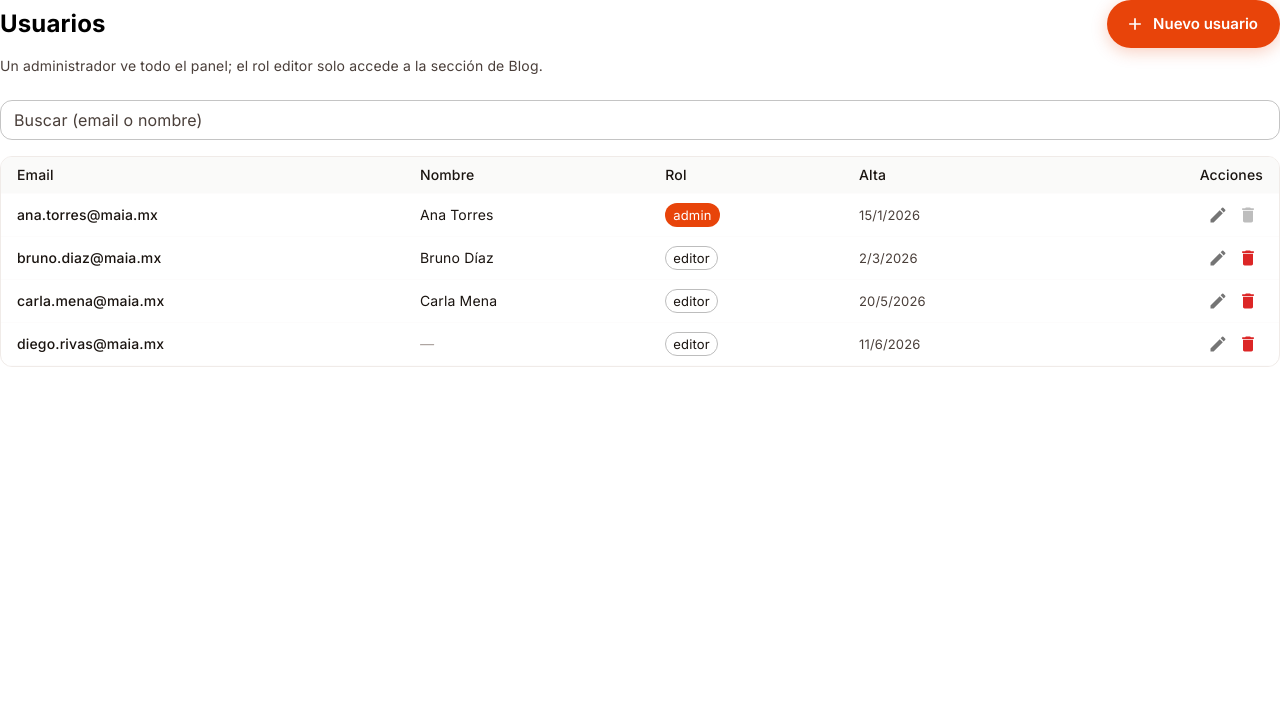
Test: UsersList — alta › envía POST /api/admin/users con email, name, role y password, y recarga el listado
Expected: the text "ana.torres@maia.mx" is shown, [1,194,404,237]
Click the button "Nuevo usuario": (1194,24) [1107,0,1279,48]
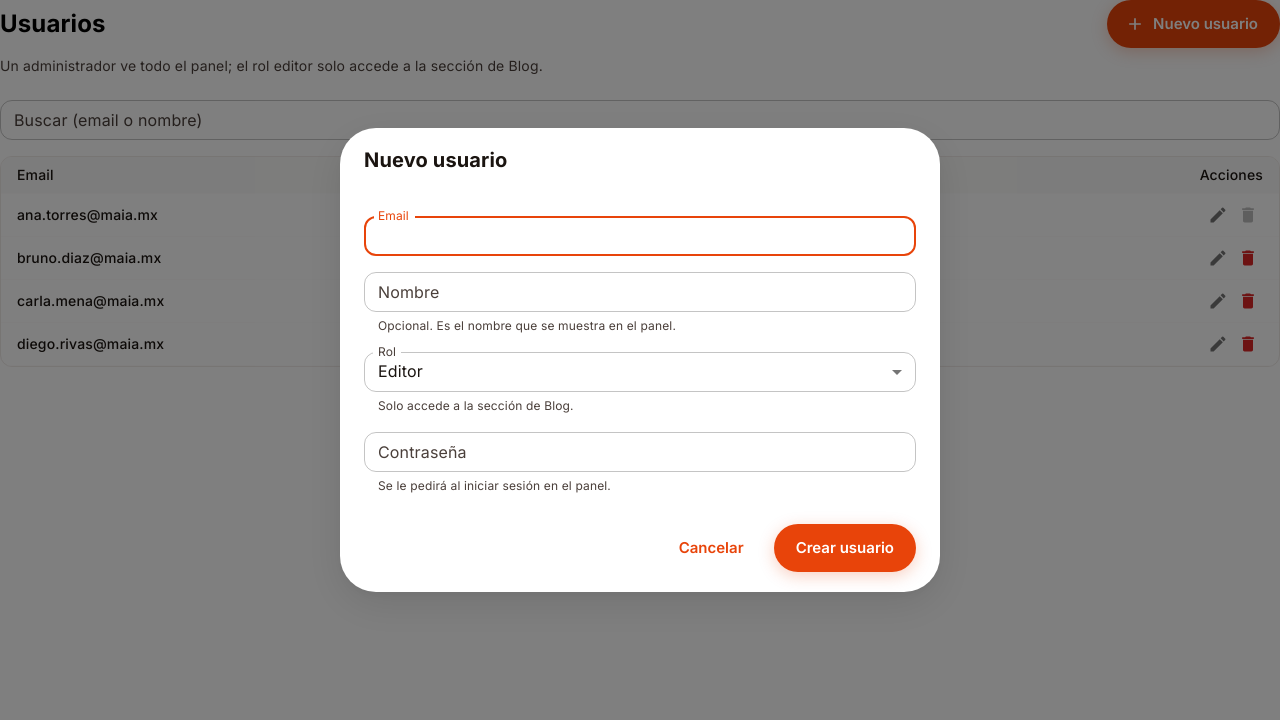
In the field labelled "Email": (640,236) [364,216,916,256], type "elena.paz@maia.mx"
In the field labelled "Nombre": (640,292) [364,272,916,312], type "Elena Paz"
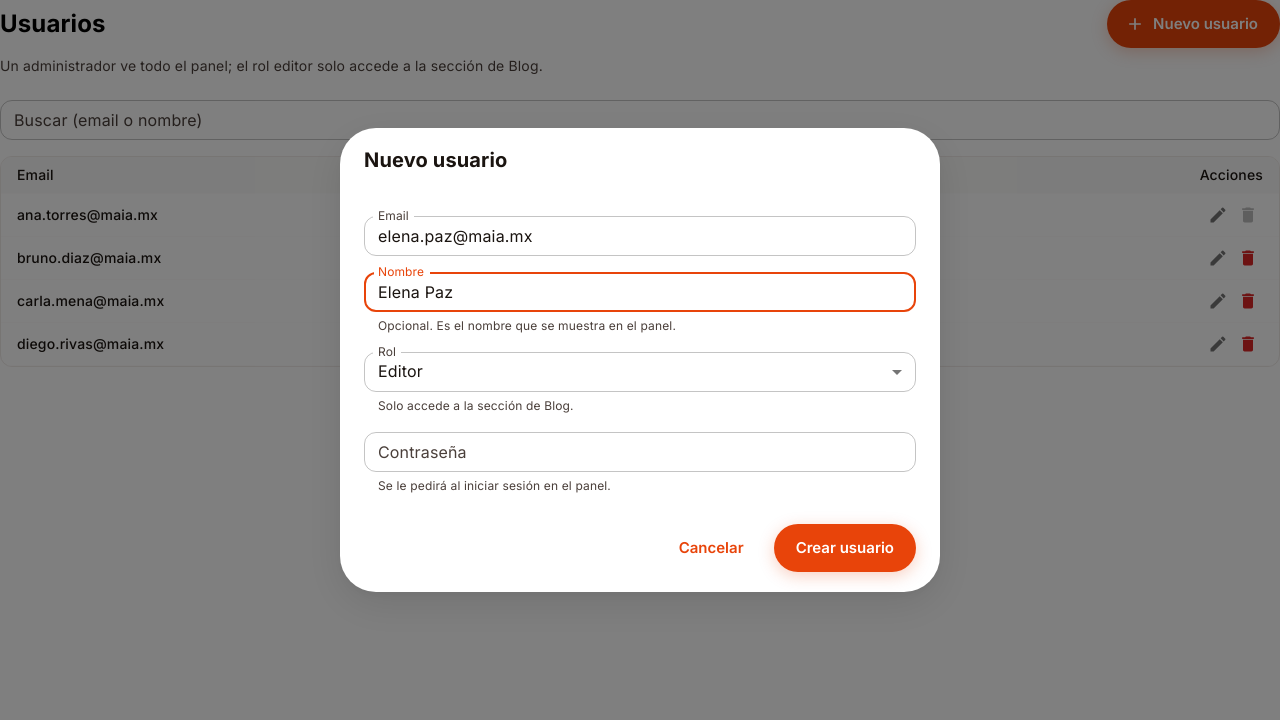
In the password field labelled "Contraseña": (640,452) [364,432,916,472], type "secreto-123"
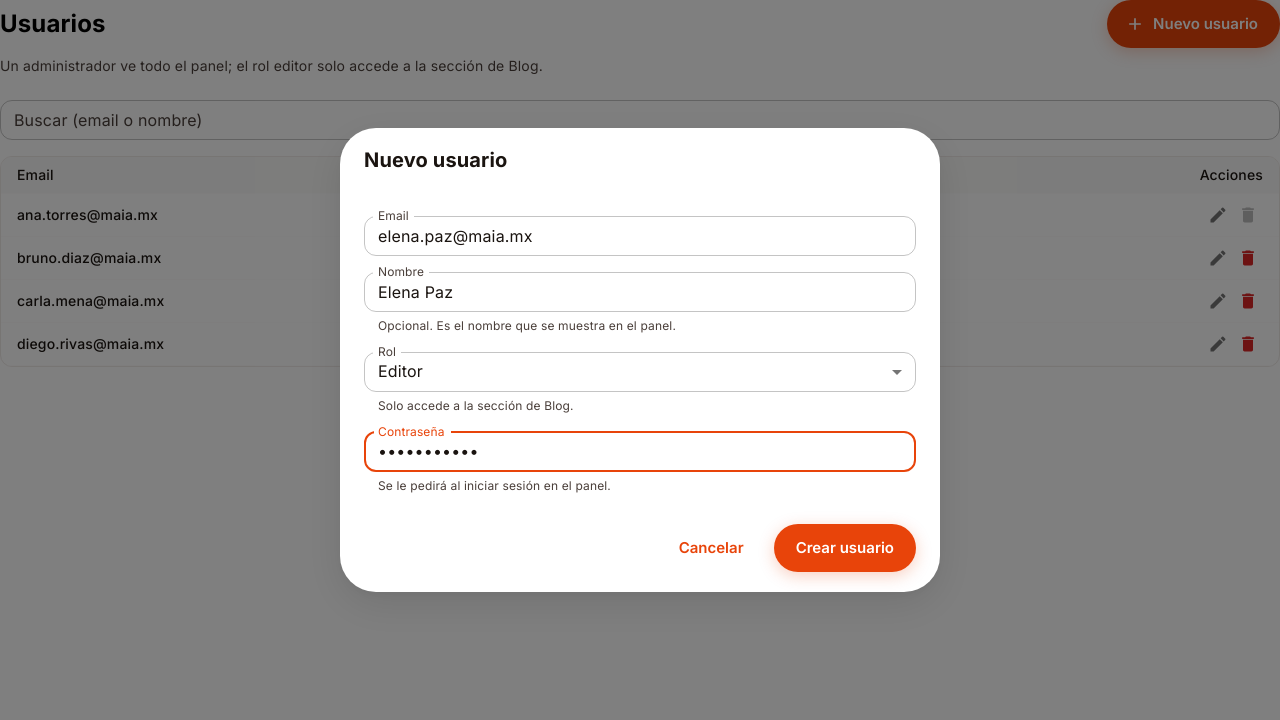
Click the dropdown named "rol": (400,371) [378,361,423,381]
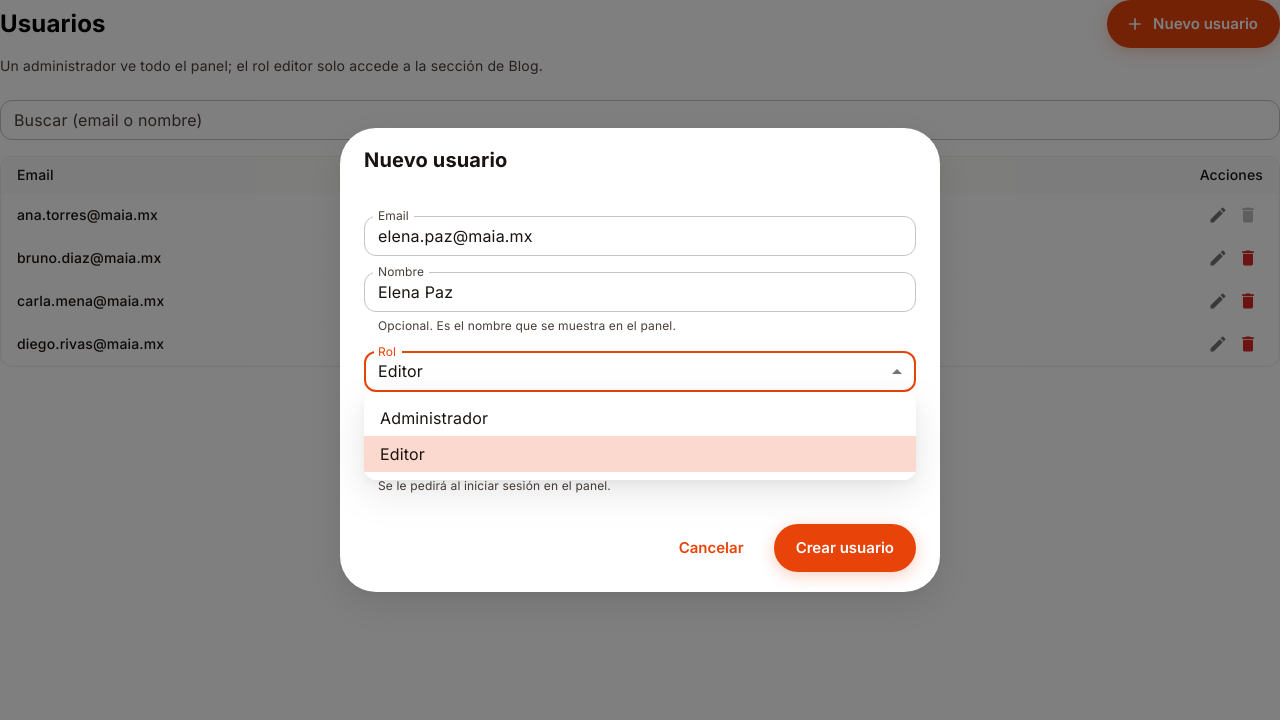
Now the options read "Administrador", "Editor", in this order
Click the option "Administrador": (434,418) [380,408,488,428]
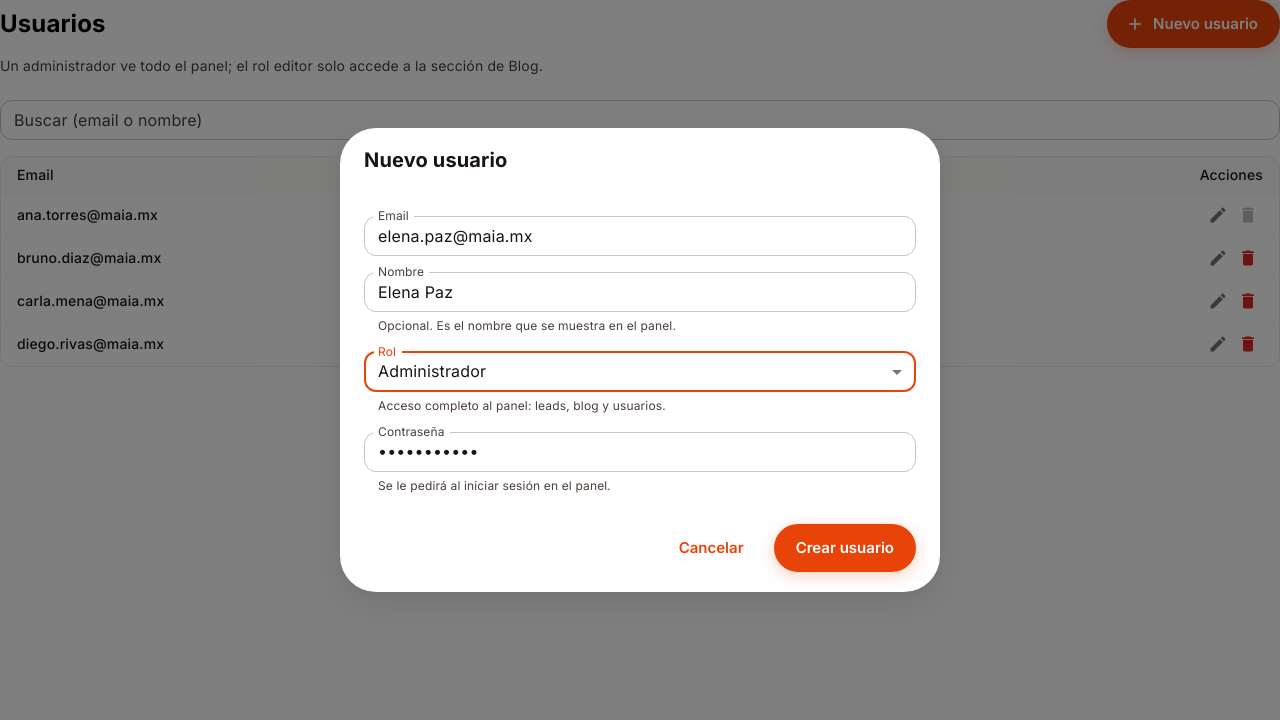
Click the button "Crear usuario": (845,548) [774,524,916,572]
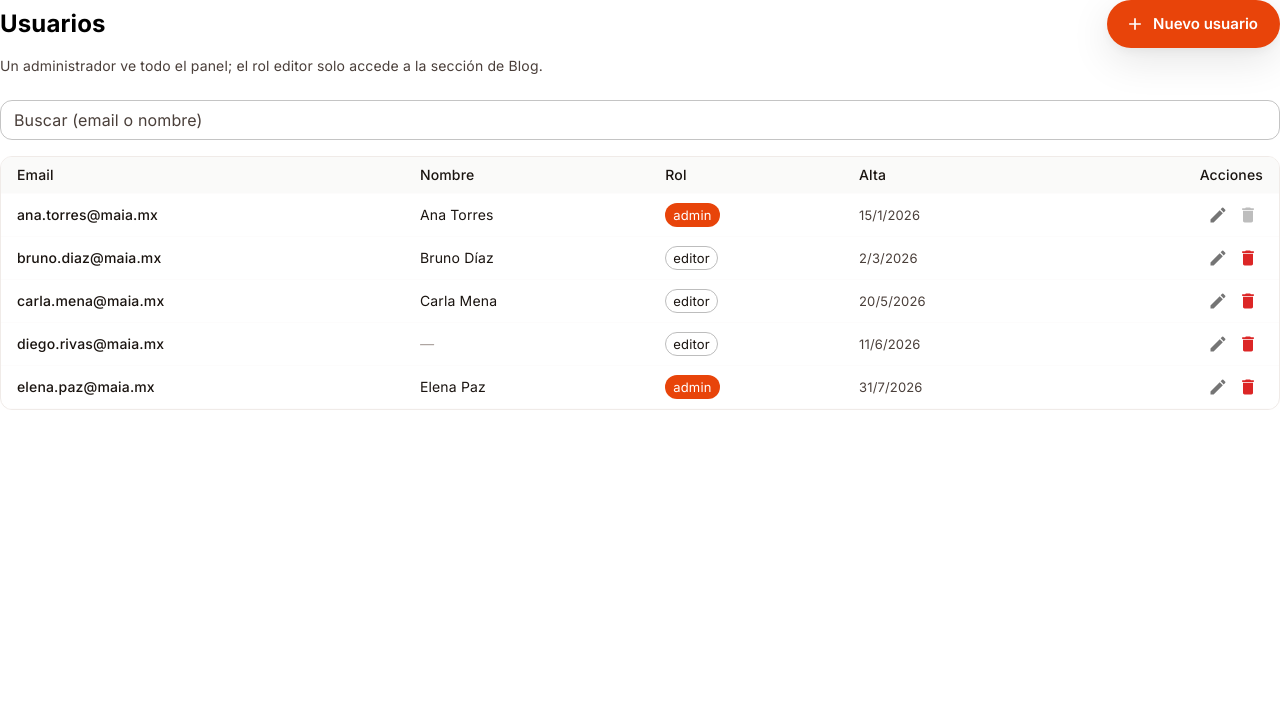
Now the text "elena.paz@maia.mx" is shown, box [1,366,404,409]
Now the text "admin" is shown 2 times, box [673,207,712,223]; [673,379,712,395]
